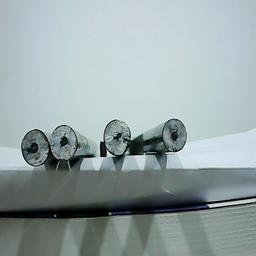pen: (19, 128, 51, 167), (49, 123, 80, 163), (103, 118, 131, 157), (161, 117, 190, 152)
